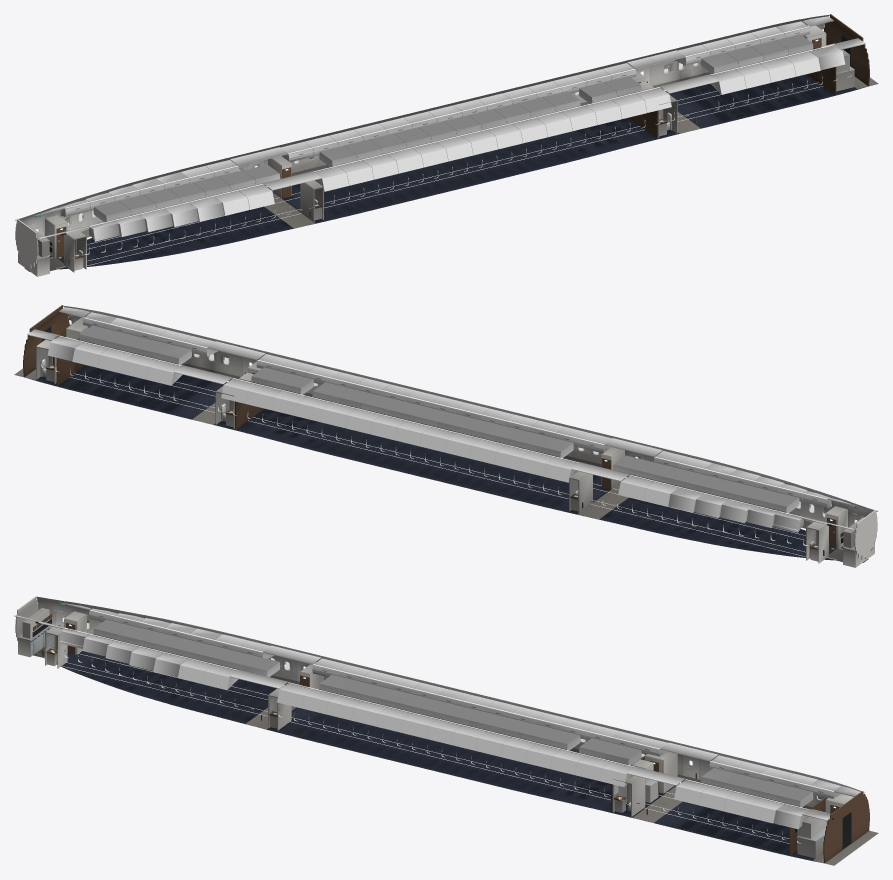
File: ma-700-cabin.glb
3 views of the same model, one above another, from view 1: azimuth 30°, elevation 25°; view 2: azimuth 150°, elevation 25°; view 3: azimuth 330°, elevation 25° (orthographic).
Visible parts, largest first — view 1: Cabin_Overhead, Cabin_Floor, Cabin_Monuments, Cabin_Lining, Cabin_Reveals; view 2: Cabin_Overhead, Cabin_Floor, Cabin_Monuments, Cabin_Lining, Cabin_Reveals; view 3: Cabin_Overhead, Cabin_Floor, Cabin_Monuments, Cabin_Lining, Cabin_Reveals.
Boxes of the visible parts, <box> form: Cabin_Overhead: <box>14,16,865,241</box>; Cabin_Floor: <box>24,74,878,272</box>; Cabin_Monuments: <box>15,14,869,276</box>; Cabin_Lining: <box>16,14,829,267</box>; Cabin_Reveals: <box>65,62,851,254</box>; Cabin_Overhead: <box>27,307,878,532</box>; Cabin_Floor: <box>14,365,868,563</box>; Cabin_Monuments: <box>23,305,877,567</box>; Cabin_Lining: <box>63,305,877,558</box>; Cabin_Reveals: <box>41,353,827,545</box>; Cabin_Overhead: <box>14,597,865,829</box>; Cabin_Floor: <box>33,647,878,865</box>; Cabin_Monuments: <box>15,596,869,863</box>; Cabin_Lining: <box>34,596,868,809</box>; Cabin_Reveals: <box>51,620,822,843</box>.
Size of the model in its own units: 54.18 by 2.75 by 5.81.
21 materials, 7 textured.
